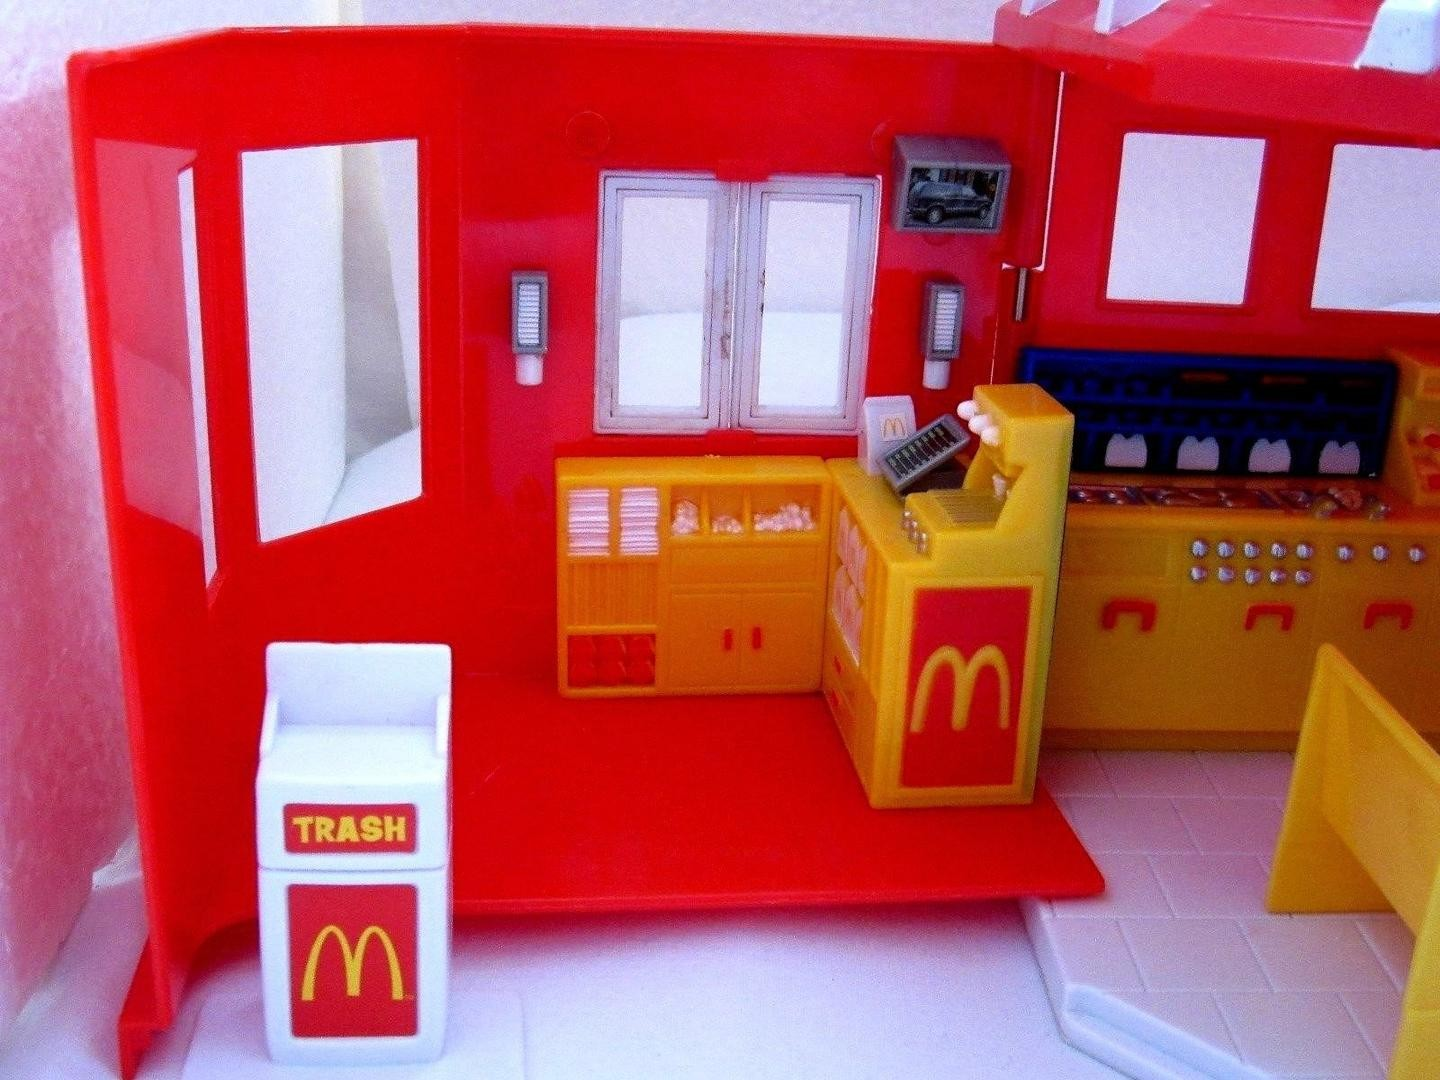mcdonalds: (906, 631, 1014, 763), (295, 916, 403, 999)
